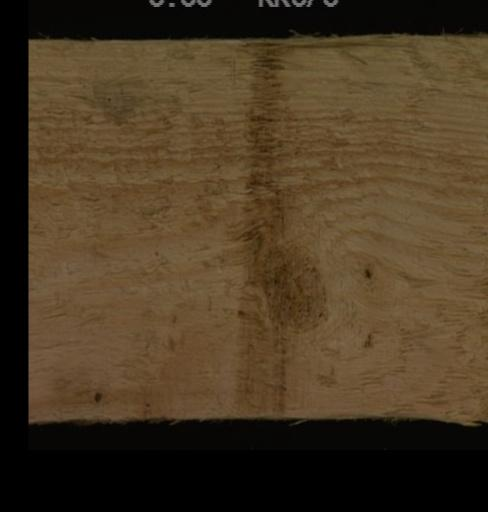small_knot: (358, 262, 375, 281), (90, 385, 104, 405)
sound_knot: (244, 235, 333, 336)
